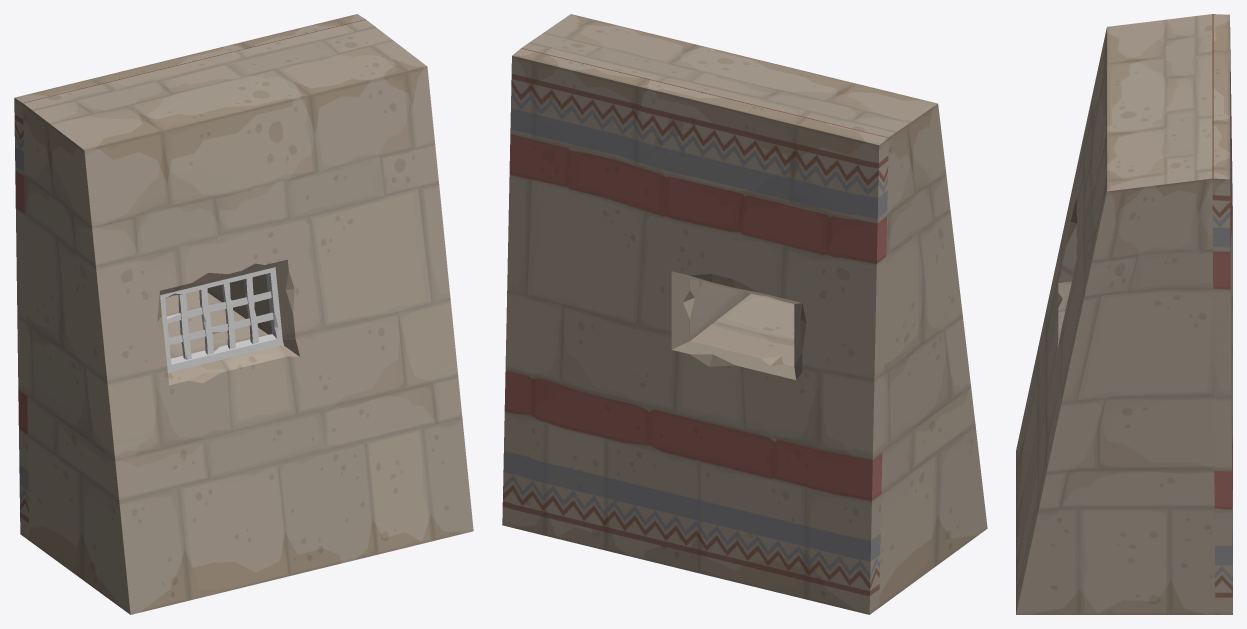
Rendered from SM_Bld_Wall_Temple_Ground_Window_01.fbx.
3 views of the same model, side by side, from view 1: azimuth 30°, elevation 25°; view 2: azimuth 150°, elevation 25°; view 3: azimuth 270°, elevation 25° (orthographic). The views are drawn at different scales.
Parts seen in each view (by area): view 1: SM_Bld_Wall_Temple_Ground_Window_01; view 2: SM_Bld_Wall_Temple_Ground_Window_01; view 3: SM_Bld_Wall_Temple_Ground_Window_01.
Part boxes in pixels (<box>): SM_Bld_Wall_Temple_Ground_Window_01: <box>14,14,473,614</box>; SM_Bld_Wall_Temple_Ground_Window_01: <box>502,14,987,614</box>; SM_Bld_Wall_Temple_Ground_Window_01: <box>1016,14,1232,614</box>.
Size of the model in its own units: 511 by 613 by 278.
